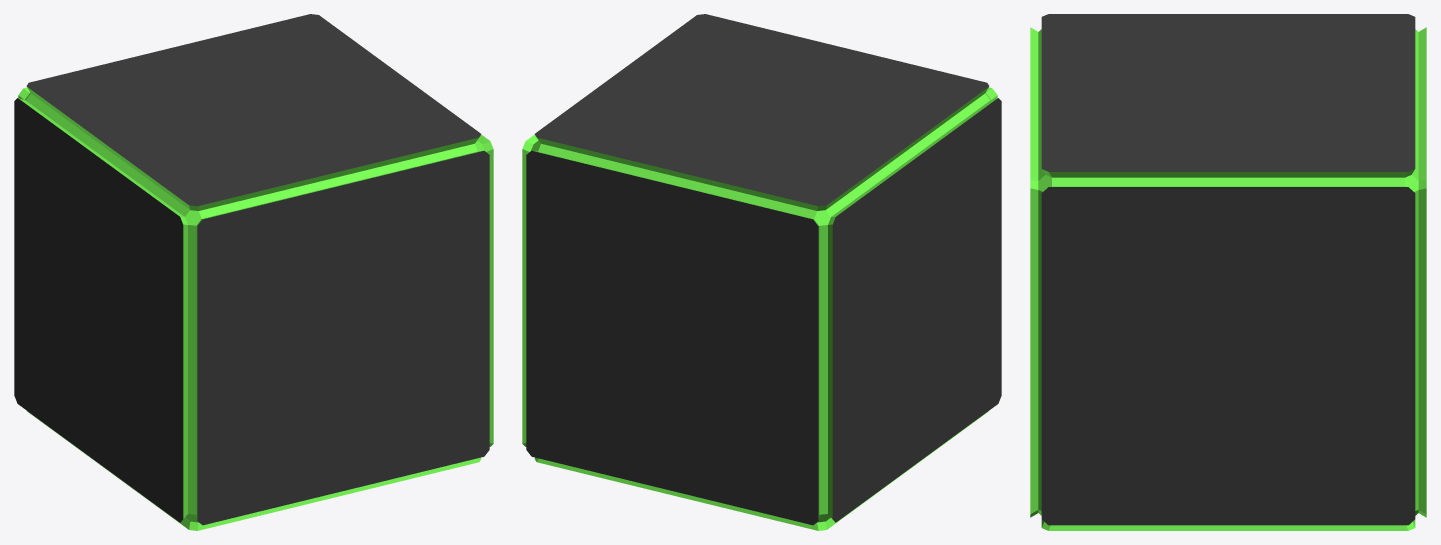
The model's file is Ship_2x2_A2.fbx.
3 views of the same model, side by side, from view 1: azimuth 30°, elevation 25°; view 2: azimuth 150°, elevation 25°; view 3: azimuth 270°, elevation 25° (orthographic). The views are drawn at different scales.
Parts seen in each view (by area): view 1: Ship_2x2_A2; view 2: Ship_2x2_A2; view 3: Ship_2x2_A2.
Part boxes in pixels (x1,y1,x2,y2): Ship_2x2_A2: (14,14,493,530); Ship_2x2_A2: (522,14,1001,530); Ship_2x2_A2: (1030,14,1426,530).
Size of the model in its own units: 153 by 153 by 153.
